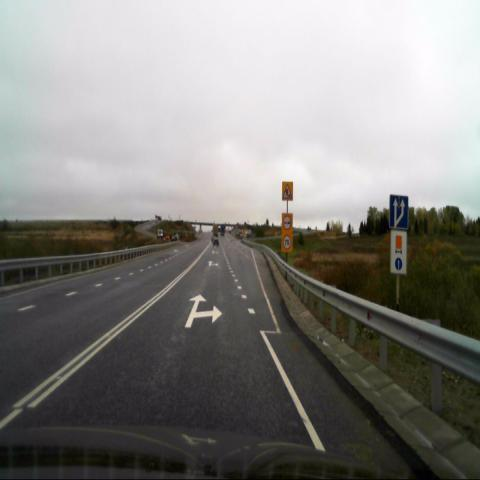4_8_2: (390, 231, 406, 274)
